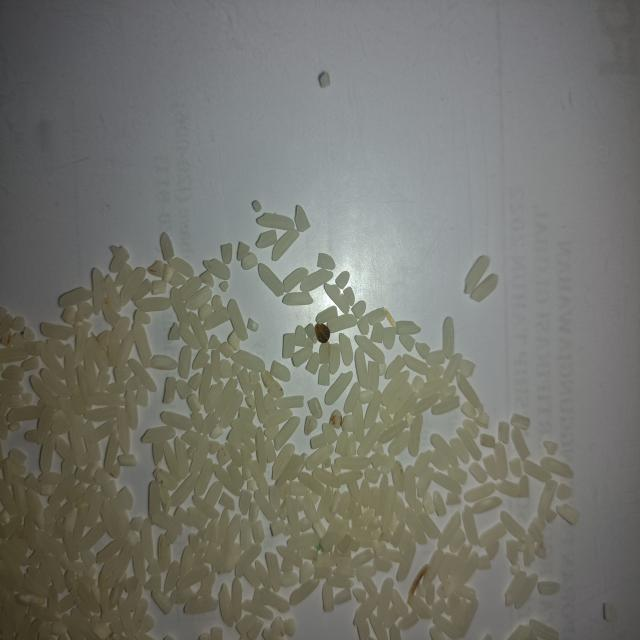Kerikil: (316, 322, 332, 343)
